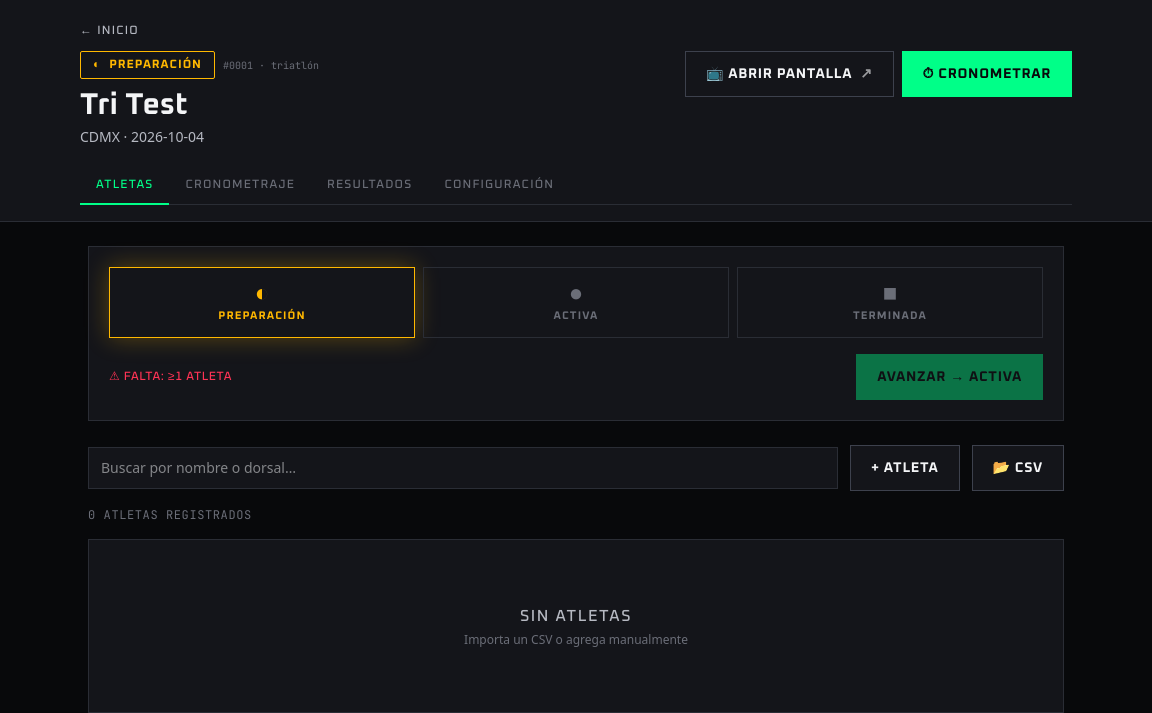
DetalleEvento — edades de categoría › a newly added category starts with empty ages
Click the button "Configuración": (499, 186) x1=428 y1=167 x2=570 y2=205
(page scrolled)
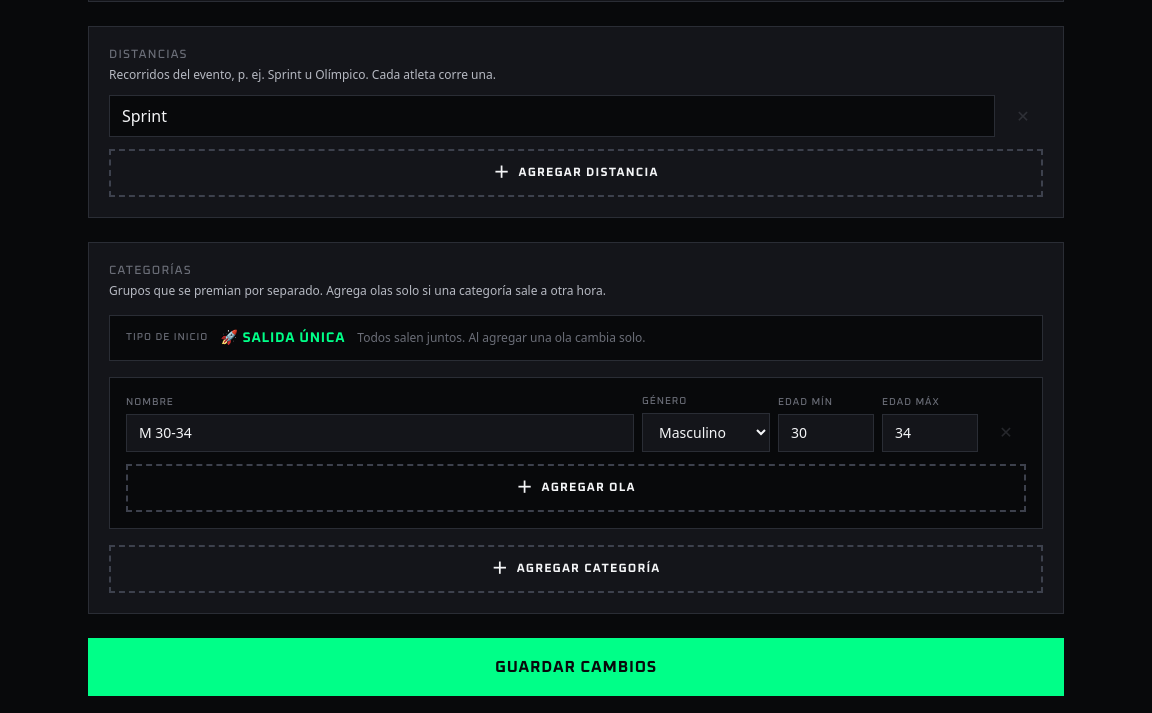
Click the button "＋ Agregar categoría": (576, 568) x1=109 y1=544 x2=1043 y2=592
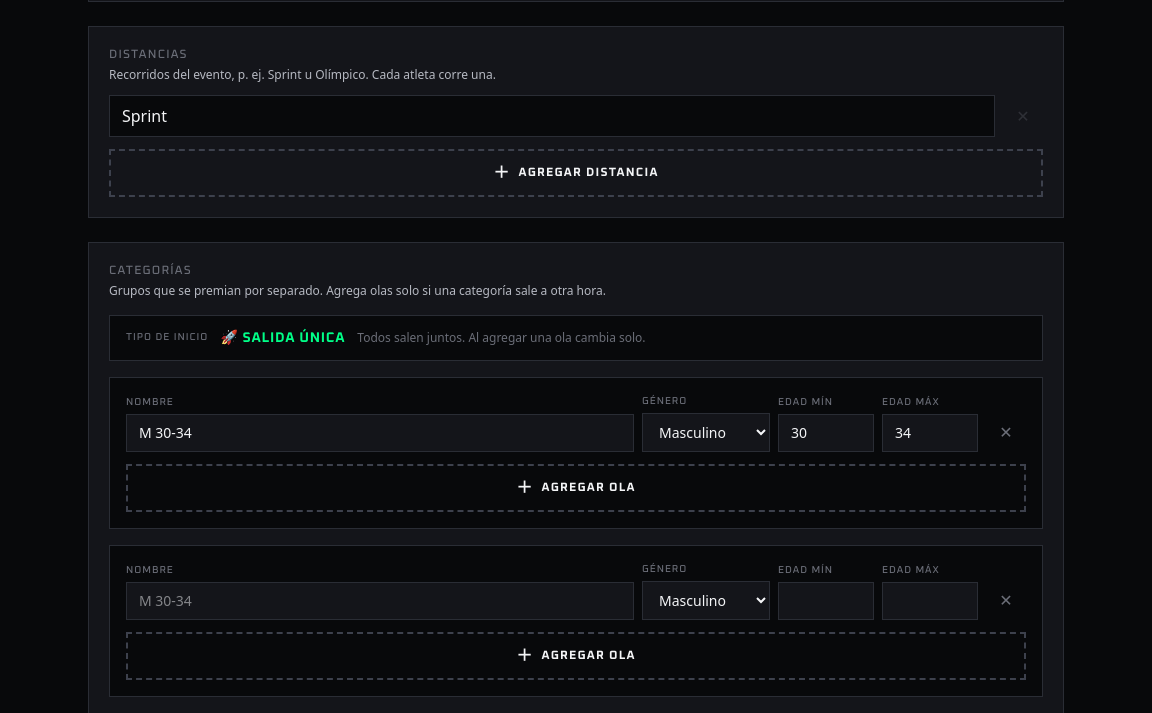
Expected: the number of number fields is 4, x1=778 y1=414 x2=874 y2=452; x1=882 y1=414 x2=978 y2=452; x1=778 y1=582 x2=874 y2=620; x1=882 y1=582 x2=978 y2=620
Expected: the 2nd number field labelled "Edad mín" is empty, x1=778 y1=582 x2=874 y2=620
Expected: the 2nd number field labelled "Edad máx" is empty, x1=882 y1=582 x2=978 y2=620
